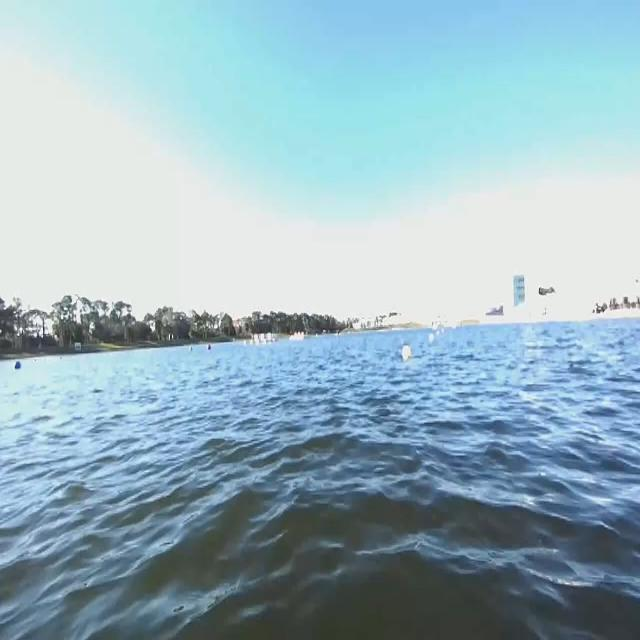blue-buoy: (13, 358, 22, 370)
yellow-buoy: (400, 342, 412, 364)
